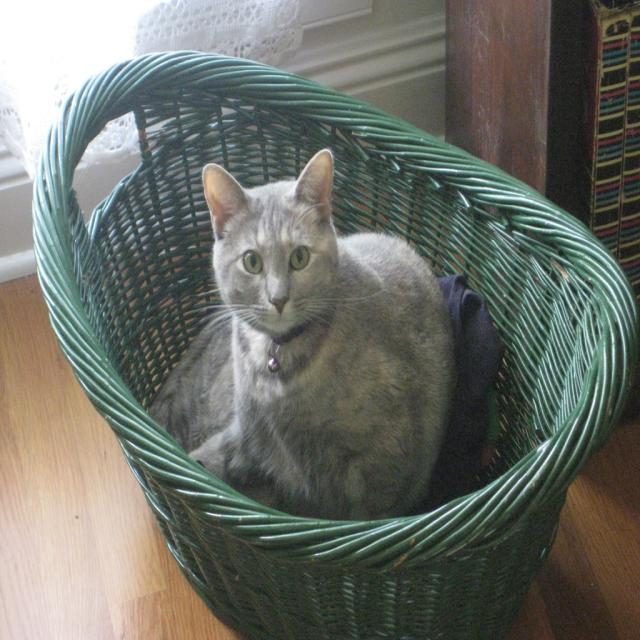Cat: (141, 149, 457, 517)
